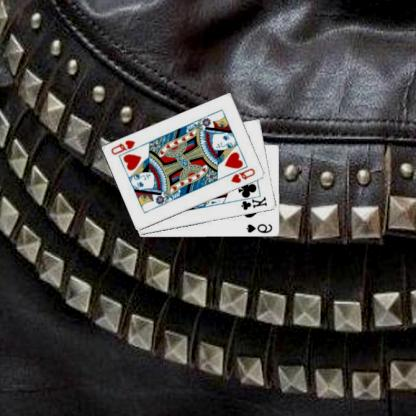6S: (245, 222, 275, 235)
KC: (237, 192, 270, 212)
QH: (111, 138, 144, 158), (230, 166, 258, 184)
